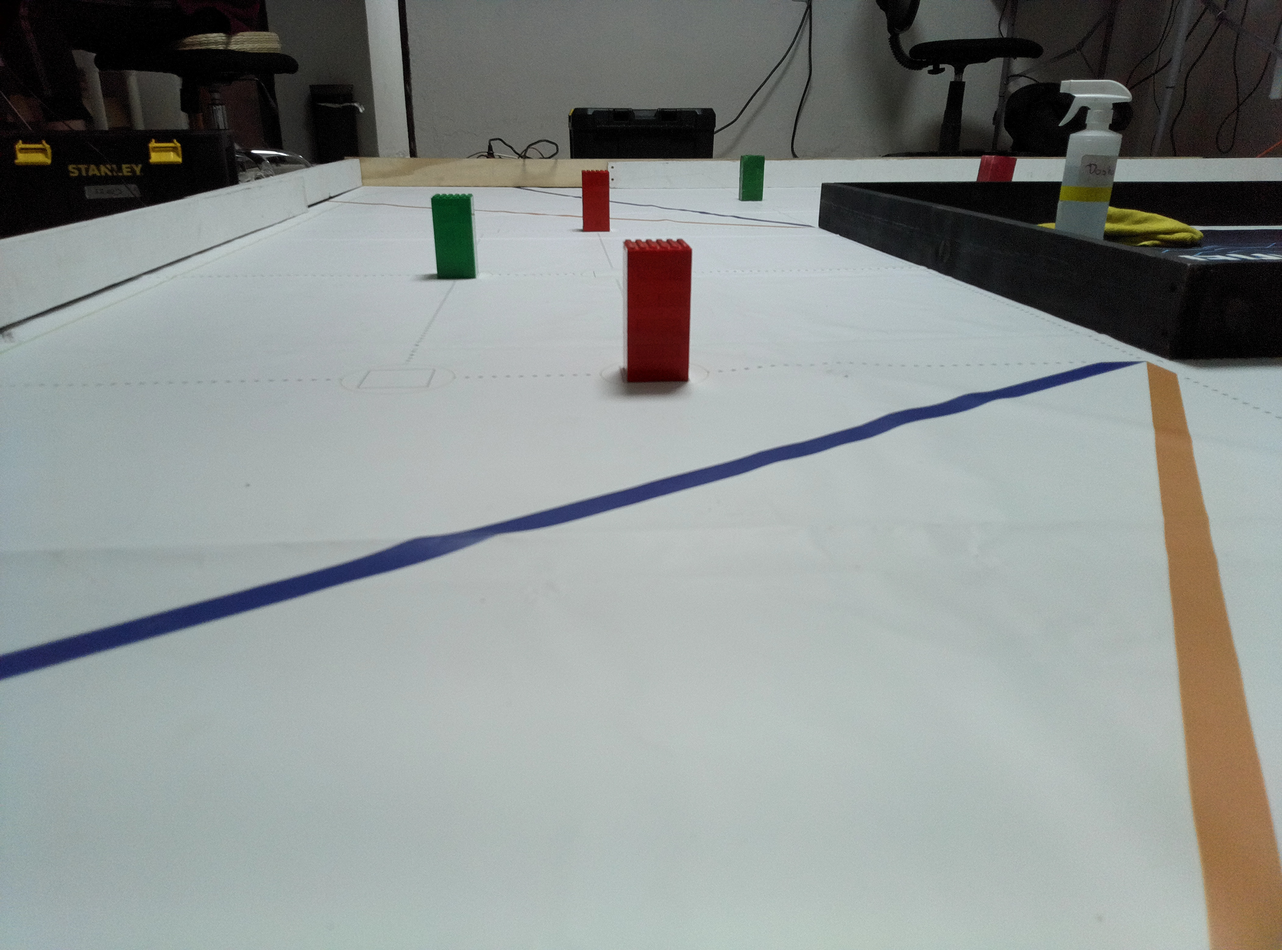greenbox: (429, 193, 481, 281), (738, 154, 766, 203)
redbox: (621, 238, 694, 385), (580, 167, 612, 233), (974, 154, 1018, 182)
